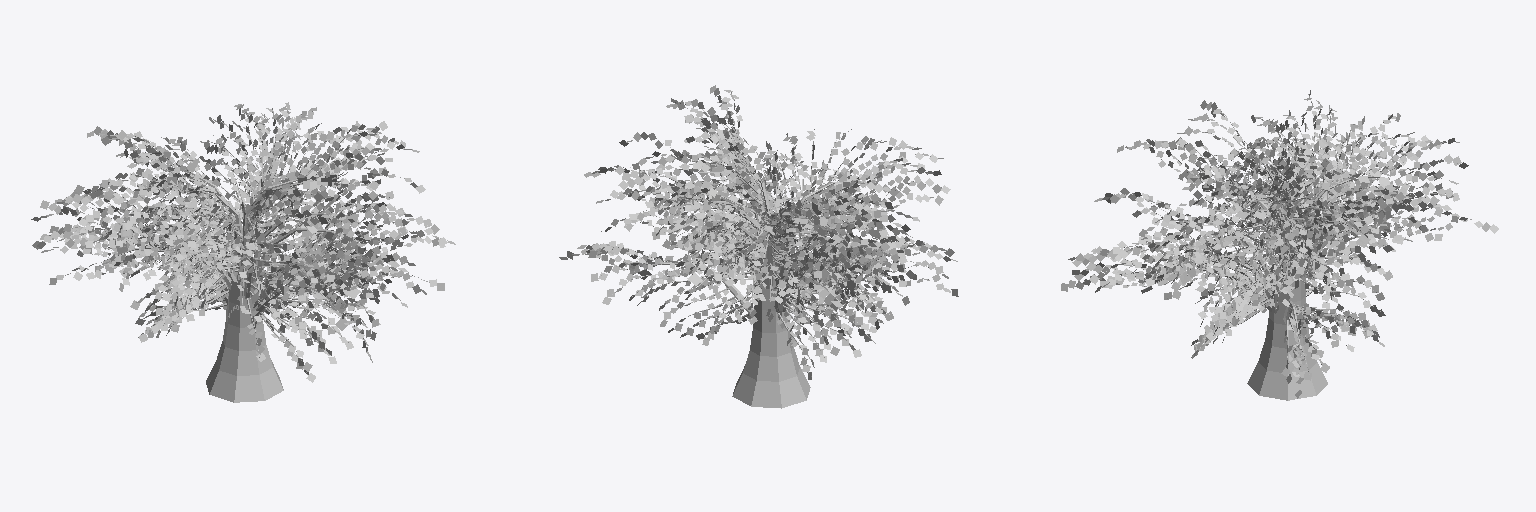
Rendered from FirstTree.obj.
3 views of the same model, side by side, from view 1: azimuth 30°, elevation 25°; view 2: azimuth 150°, elevation 25°; view 3: azimuth 270°, elevation 25° (orthographic).
Parts seen in each view (by area): view 1: plant; view 2: plant; view 3: plant.
Part boxes in pixels (x1,y1,x2,y2): plant: (31, 102, 455, 402); plant: (559, 85, 958, 408); plant: (1061, 90, 1498, 400).
Size of the model in its own units: 56.46 by 35.66 by 54.03.